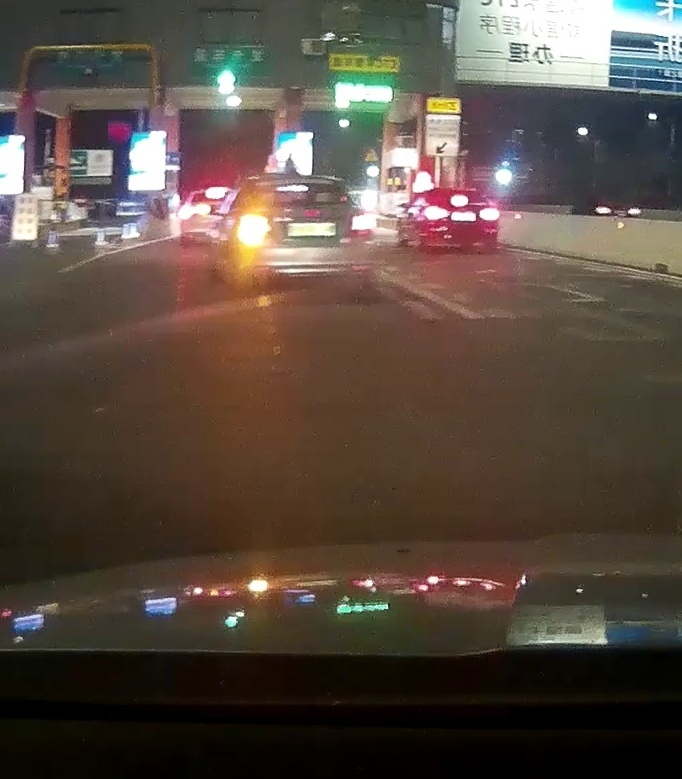L_light: (237, 215, 270, 243), (423, 206, 448, 219)
R_light: (345, 210, 373, 237), (480, 207, 500, 221)
T_light: (450, 195, 469, 205), (286, 184, 309, 192)
night-brake: (421, 188, 500, 253)
night-left: (233, 175, 375, 290)
